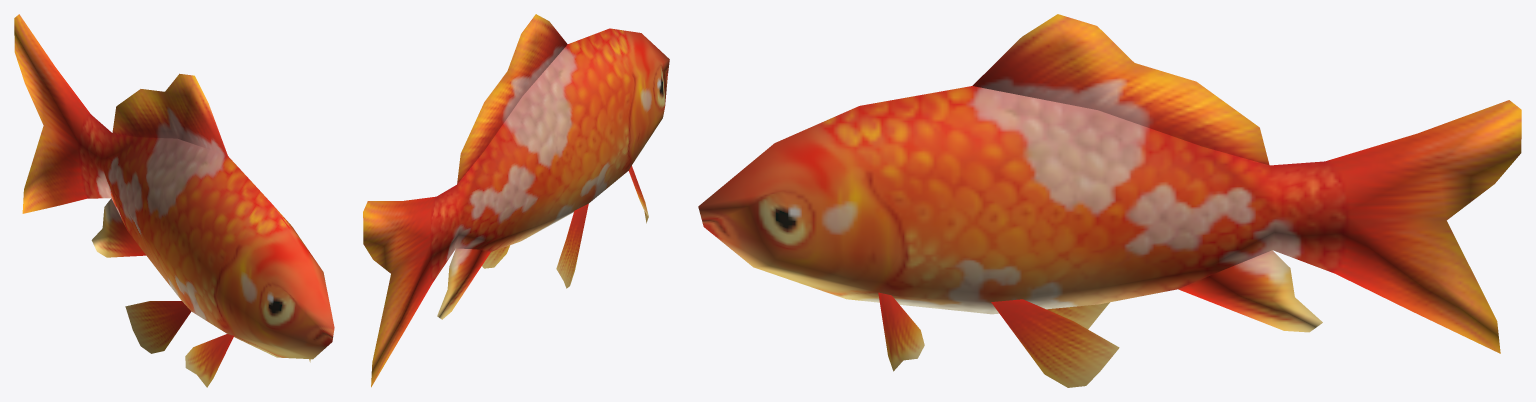
Rendered from jsf_Goldfish_02.fbx.
3 views of the same model, side by side, from view 1: azimuth 30°, elevation 25°; view 2: azimuth 150°, elevation 25°; view 3: azimuth 270°, elevation 25° (orthographic). The views are drawn at different scales.
Parts seen in each view (by area): view 1: jsf_Goldfish_02; view 2: jsf_Goldfish_02; view 3: jsf_Goldfish_02.
Boxes of the visible parts, bbox=[...] form: jsf_Goldfish_02: bbox=[14, 14, 334, 387]; jsf_Goldfish_02: bbox=[363, 14, 669, 387]; jsf_Goldfish_02: bbox=[698, 14, 1521, 387].
Bounding box in the file's own units: 1.01 × 2.07 × 4.42.
